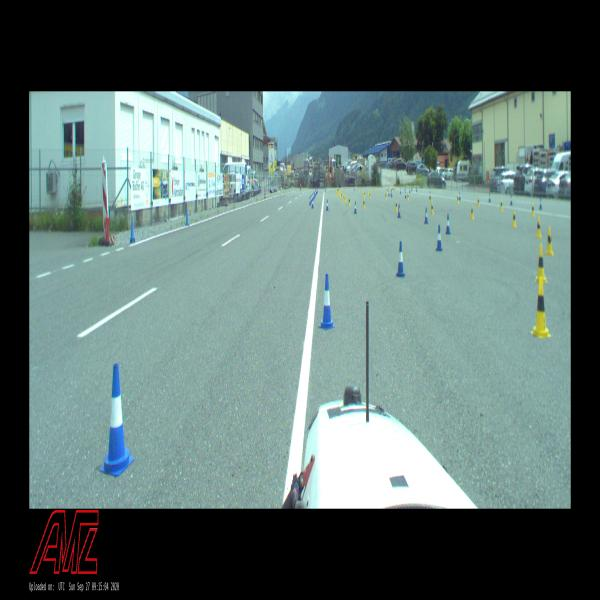blue_cone: (104, 364, 129, 474), (321, 274, 333, 328), (396, 241, 405, 276), (436, 225, 443, 250), (129, 215, 135, 243), (446, 214, 450, 234), (185, 209, 189, 226), (424, 208, 428, 223), (354, 202, 357, 213), (326, 200, 329, 210), (539, 198, 542, 208), (311, 198, 314, 208), (398, 204, 400, 218), (309, 195, 311, 206), (510, 194, 512, 205), (489, 193, 491, 202), (312, 193, 314, 201), (429, 191, 431, 199), (459, 192, 461, 200), (390, 188, 392, 194), (409, 187, 411, 193), (324, 187, 326, 192), (388, 191, 390, 196), (311, 194, 312, 203), (404, 186, 406, 190), (315, 190, 316, 197), (405, 191, 406, 198), (416, 186, 417, 192), (400, 189, 401, 194), (391, 192, 392, 197), (393, 186, 394, 190), (317, 188, 318, 192), (316, 189, 316, 196), (314, 192, 314, 199), (412, 186, 412, 191), (317, 188, 317, 194), (355, 187, 355, 191)
large_orange_cone: (264, 187, 266, 199)
yellow_cone: (534, 277, 548, 337), (536, 244, 546, 282), (546, 227, 554, 256), (536, 216, 542, 238), (531, 203, 535, 216), (513, 210, 516, 227), (471, 205, 474, 218), (500, 199, 503, 211), (430, 202, 433, 214), (348, 195, 351, 206), (477, 197, 480, 207), (396, 200, 398, 212), (363, 198, 365, 209), (457, 195, 459, 204), (344, 194, 346, 203), (385, 192, 387, 199), (407, 193, 409, 200), (369, 191, 371, 198), (386, 188, 388, 194), (338, 190, 340, 196), (376, 188, 378, 194), (431, 193, 432, 201), (368, 189, 369, 196), (343, 194, 344, 201), (340, 191, 341, 198), (341, 192, 342, 199), (364, 191, 365, 197), (392, 186, 393, 192), (362, 190, 363, 196), (336, 189, 337, 194), (337, 190, 338, 195), (338, 186, 339, 190), (345, 188, 346, 192), (359, 187, 360, 191), (374, 186, 375, 190), (388, 186, 389, 190)
